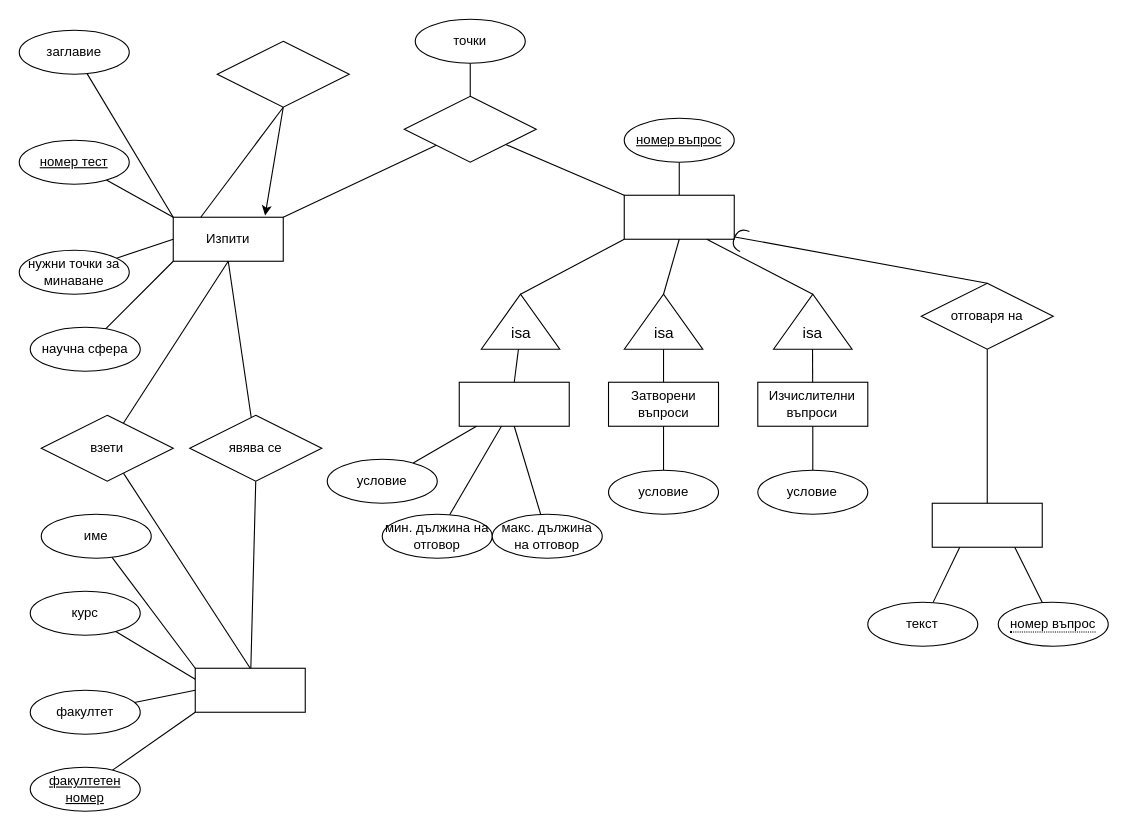
Image size: 1128x831. Some labels were removed from this diagram. Here are the shapes that lost their labels. From the top down, the box of each, then its label:
(216, 40, 349, 107): е нужен
(403, 95, 536, 162): състои се от
(623, 194, 734, 239): Въпроси
(458, 381, 569, 426): Есета
(931, 502, 1042, 547): Отговори
(194, 667, 305, 712): Студенти
